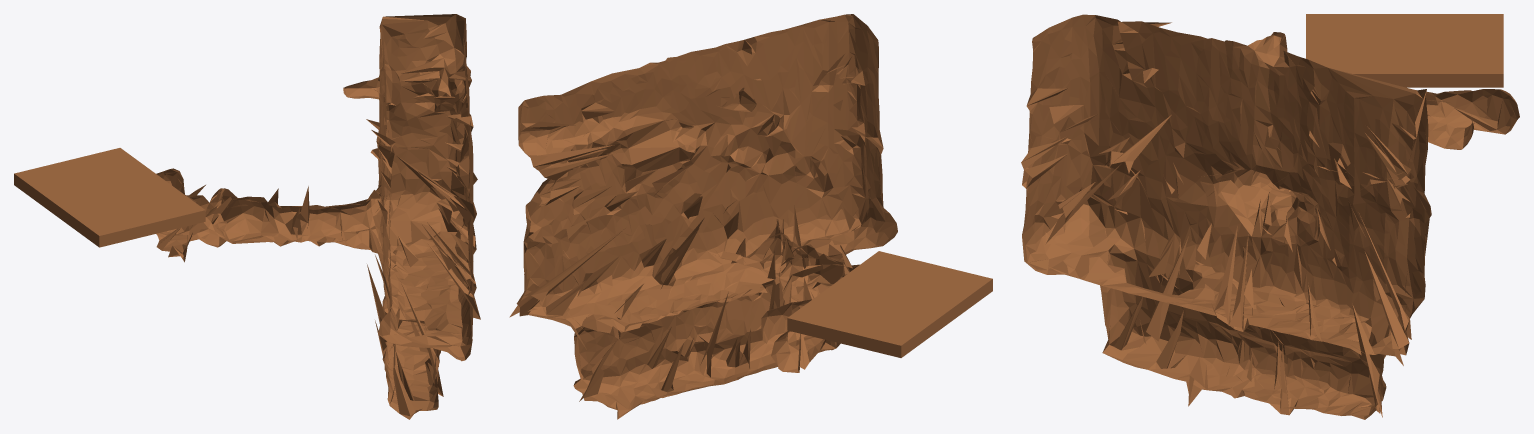
File: improved.glb
3 views of the same model, side by side, from view 1: azimuth 30°, elevation 25°; view 2: azimuth 150°, elevation 25°; view 3: azimuth 270°, elevation 25° (orthographic). The views are drawn at different scales.
Visible parts, largest first — view 1: world; view 2: world; view 3: world.
Boxes of the visible parts, x1,y1,x2,y2 form: world: (14, 14, 480, 419); world: (509, 14, 992, 419); world: (1021, 14, 1519, 419).
Bounding box in the file's own units: 0.74 × 0.5131 × 0.6752.
